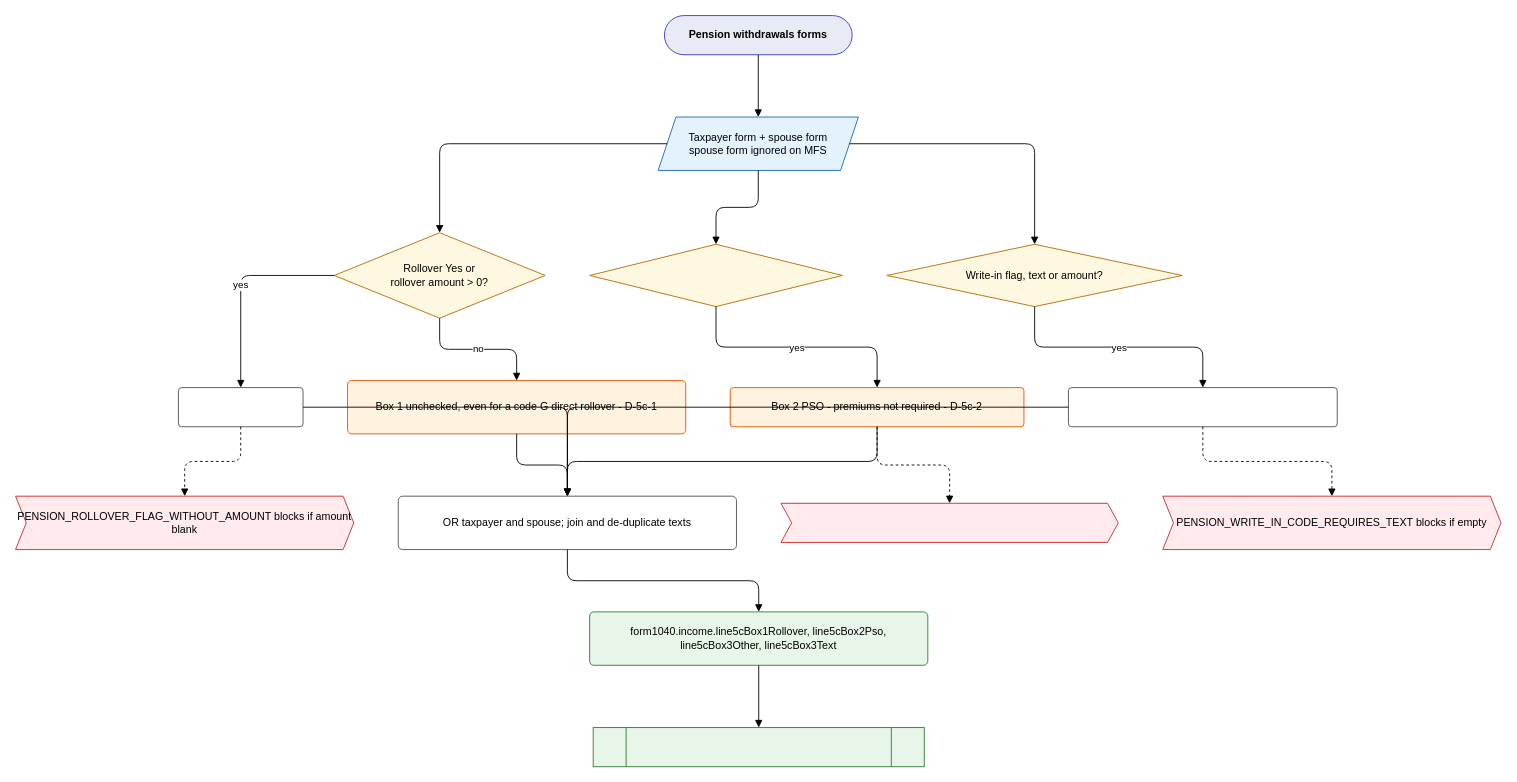
Image size: 1517x782. Some labels were removed from this diagram. The shapes that lost their labels are listed below. From the top down, each one's box as (x1, y1, x2, y2) in pixels, then its label:
(589, 243, 842, 307): PSO eligible and elected?
(178, 387, 303, 427): Box 1 Rollover
(1068, 387, 1337, 427): Box 3 + text, text $amount, or $amount
(780, 502, 1118, 542): PENSION_PSO_ELECTED_WITHOUT_PENSION_INCOME blocks
(592, 727, 924, 767): Form 1040 line 5c; any box keeps line 5a printed
